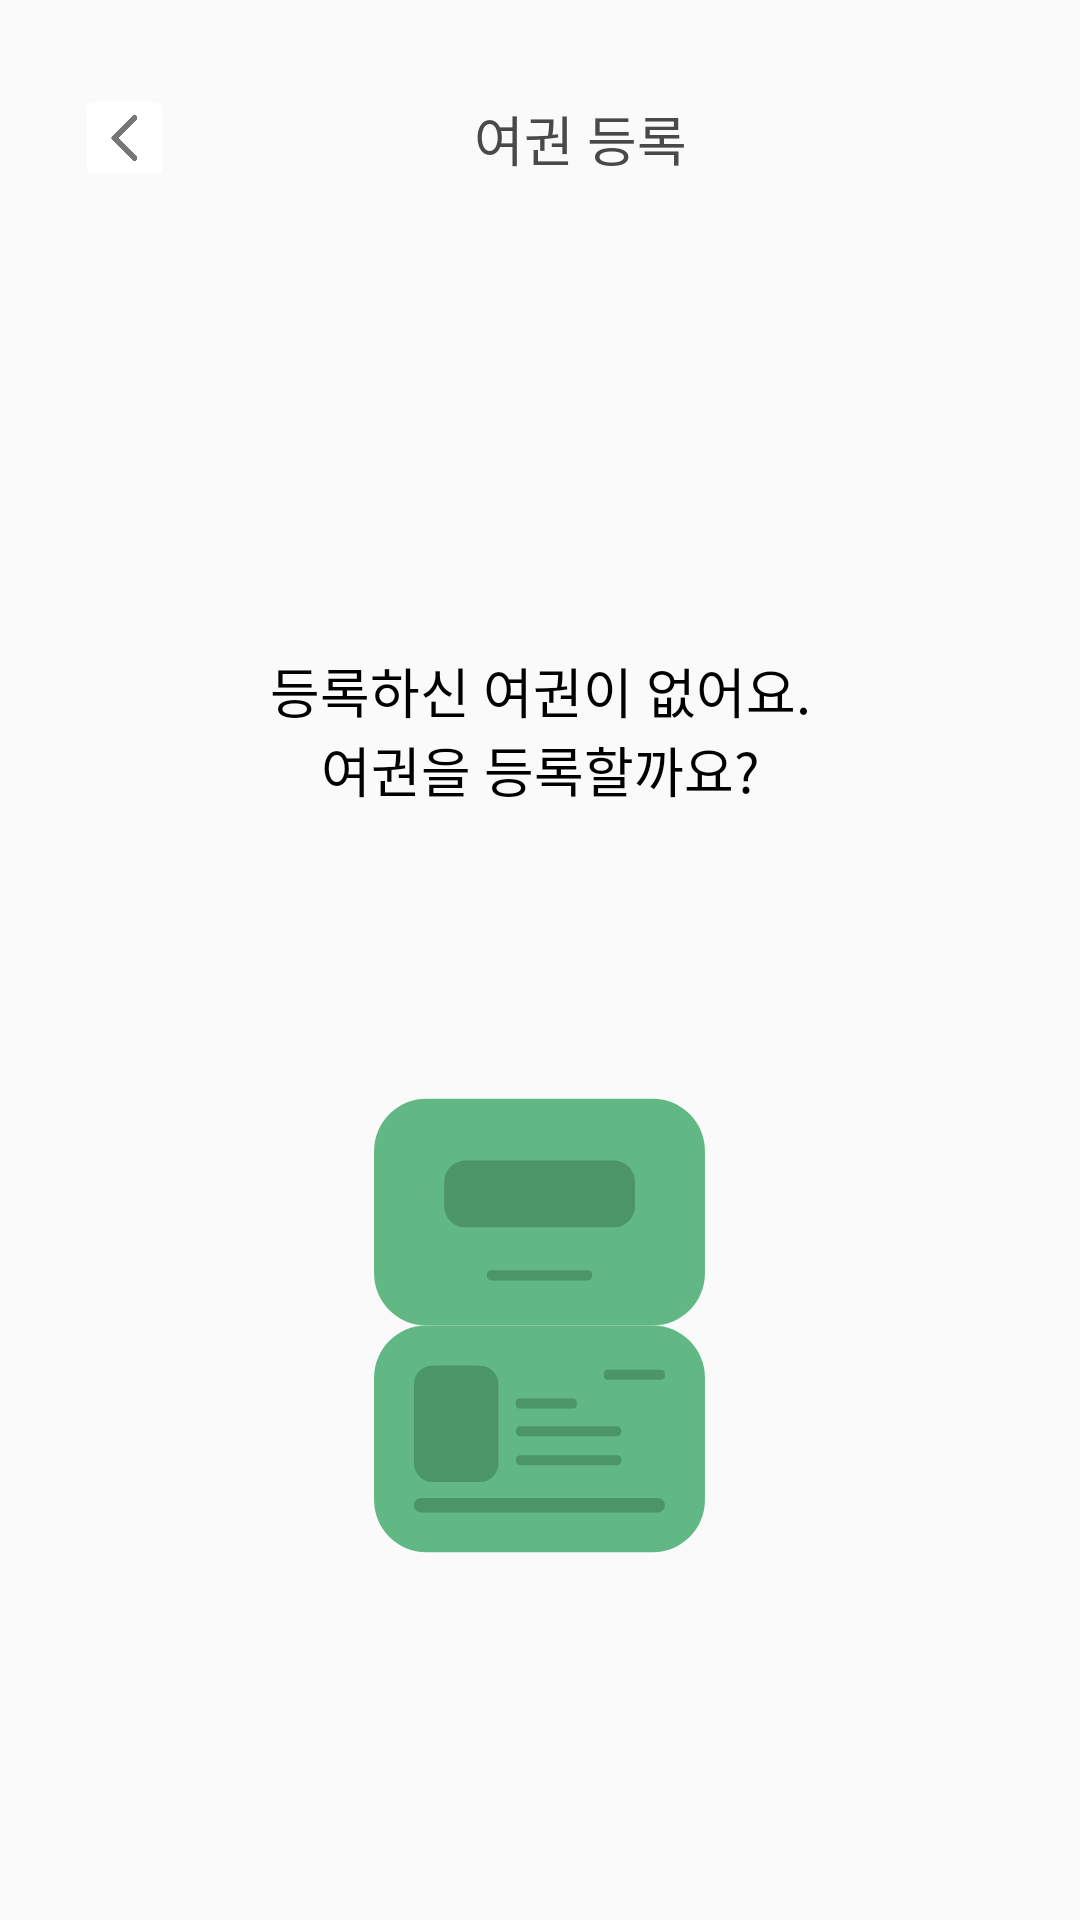

Icon click points for this 1080px×1920px phone screenshot, format (x,y):
arrow: (124,138)
